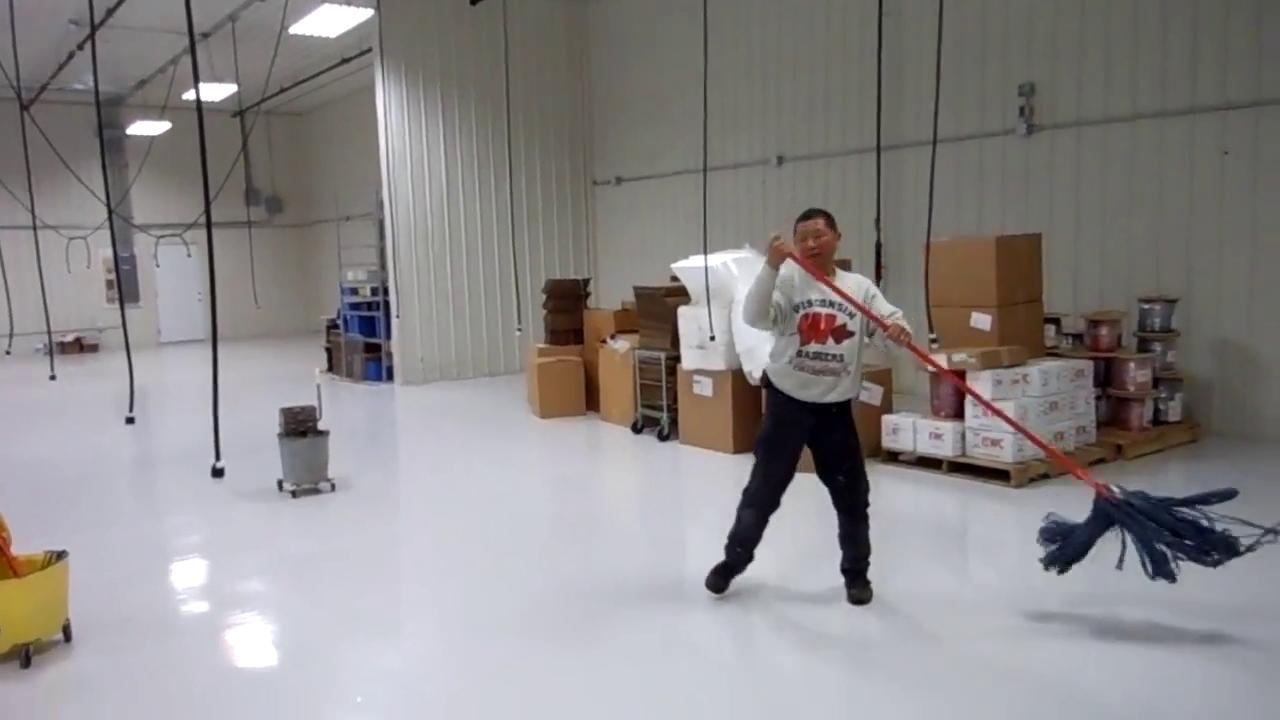victim: (699, 198, 916, 612)
